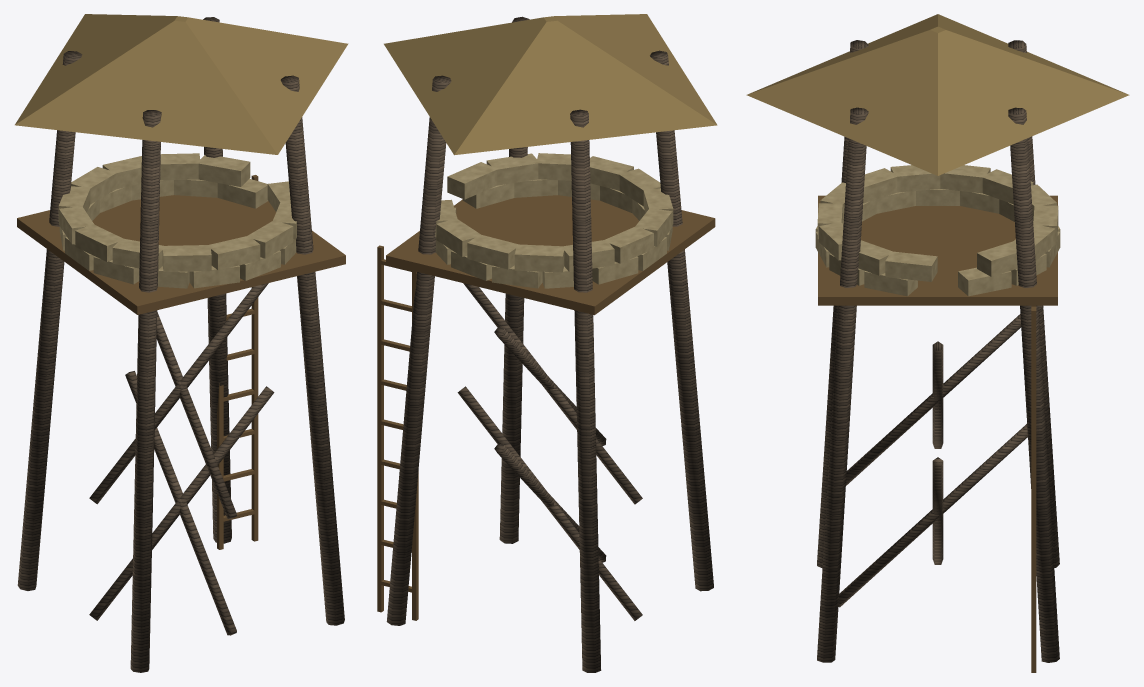
Rendered from watchtower.glb.
The picture shows the model from 3 angles, left to right: view 1: azimuth 30°, elevation 25°; view 2: azimuth 150°, elevation 25°; view 3: azimuth 270°, elevation 25°; orthographic projection.
Parts seen in each view (by area): view 1: Tower; view 2: Tower; view 3: Tower.
Part boxes in pixels (x1,y1,x2,y2): Tower: (15, 14, 348, 672); Tower: (377, 14, 717, 672); Tower: (746, 14, 1129, 672).
Bounding box in the file's own units: 4.8 × 8.05 × 4.8.
Materials: 4 (2 with a texture image).
